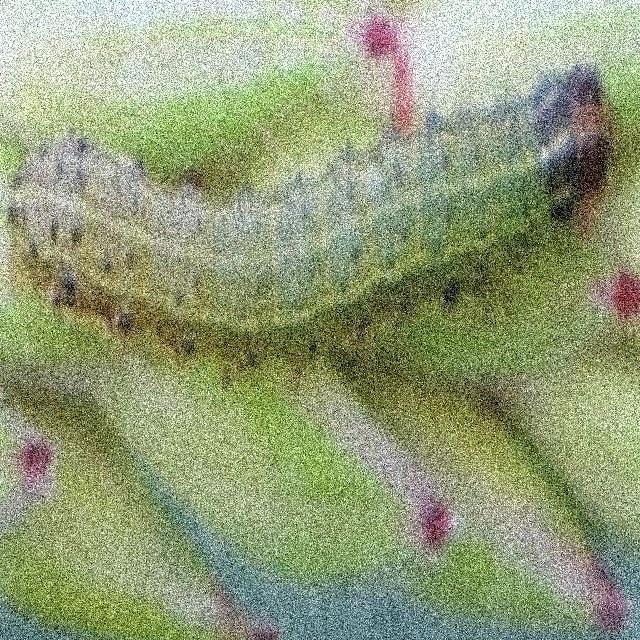gusano_cogollero: (17, 69, 610, 354)
